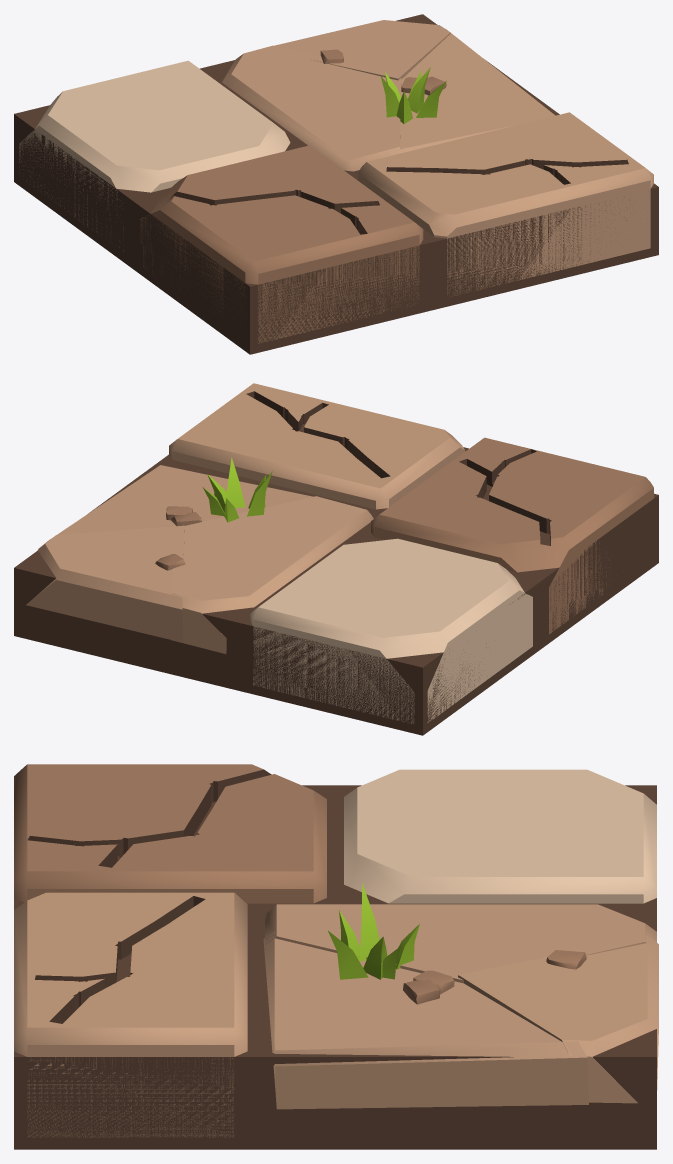
The model's file is floor_cracked__upper.glb.
The picture shows the model from 3 angles, top to bottom: view 1: azimuth 30°, elevation 25°; view 2: azimuth 150°, elevation 25°; view 3: azimuth 270°, elevation 25°; orthographic projection. The views are drawn at different scales.
Visible parts, largest first — view 1: floor_cracked; view 2: floor_cracked; view 3: floor_cracked.
Boxes of the visible parts, x1,y1,x2,y2 form: floor_cracked: (14,14,658,354); floor_cracked: (14,383,658,735); floor_cracked: (14,764,658,1149).
Size of the model in its own units: 0.9768 by 0.2795 by 0.977.
